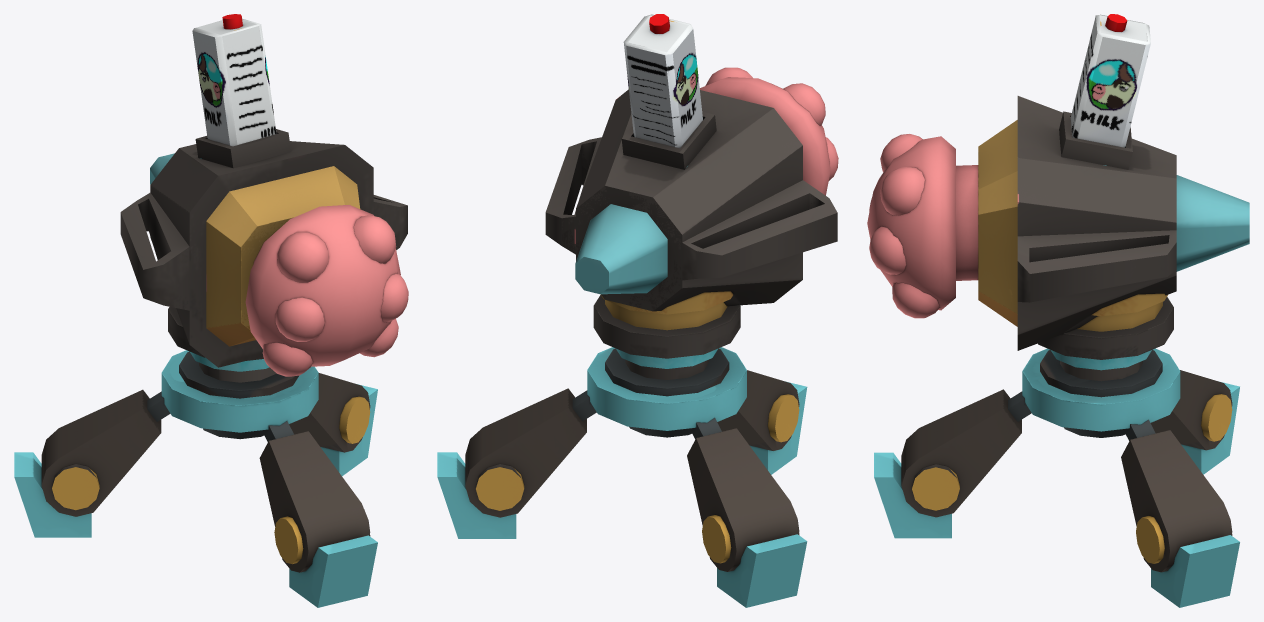
File: TURRET.fbx
3 renders of one model, left to right at view 1: azimuth 30°, elevation 25°; view 2: azimuth 150°, elevation 25°; view 3: azimuth 270°, elevation 25°, orthographic.
Parts seen in each view (by area): view 1: turretHead, base; view 2: turretHead, base; view 3: turretHead, base.
Boxes of the visible parts, x1,y1,x2,y2 form: turretHead: [120, 14, 408, 376]; base: [14, 350, 377, 607]; turretHead: [545, 14, 838, 368]; base: [437, 347, 807, 607]; turretHead: [867, 14, 1249, 370]; base: [874, 348, 1239, 607].
Size of the model in its own units: 424 by 564 by 384.
Materials: 1 (1 with a texture image).
